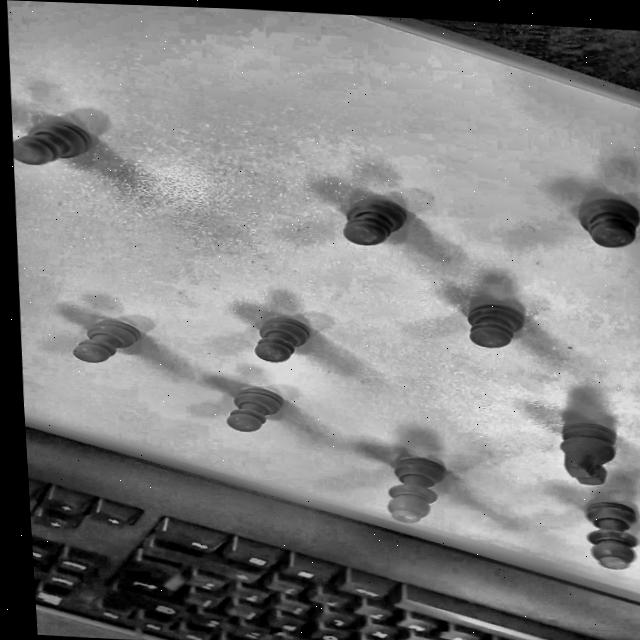white-bishop: (563, 485, 640, 574), (377, 440, 447, 528)
white-knight: (537, 400, 625, 485)
white-pawn: (7, 89, 106, 189), (326, 179, 417, 253), (558, 179, 640, 259), (239, 296, 318, 369), (65, 300, 135, 373), (452, 289, 529, 355), (213, 374, 293, 435)
